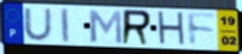F: (186, 11, 219, 48)
H: (156, 10, 188, 48)
I: (60, 7, 71, 44)
M: (86, 8, 124, 45)
R: (119, 8, 153, 47)
U: (22, 7, 54, 42)
